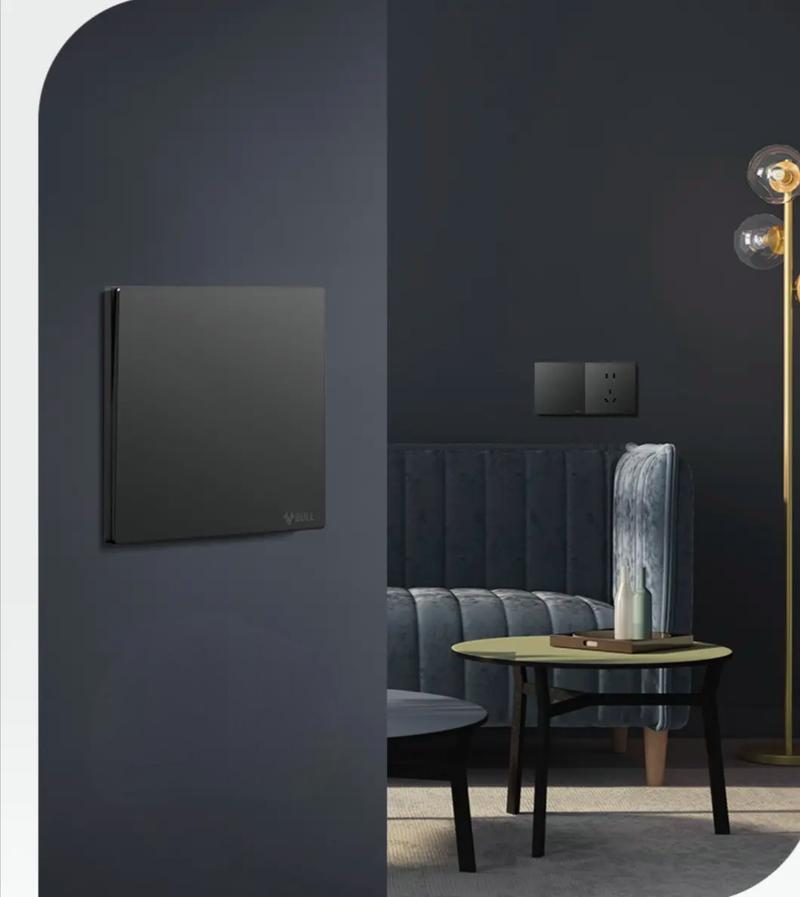button: (103, 285, 330, 545), (530, 360, 588, 416)
